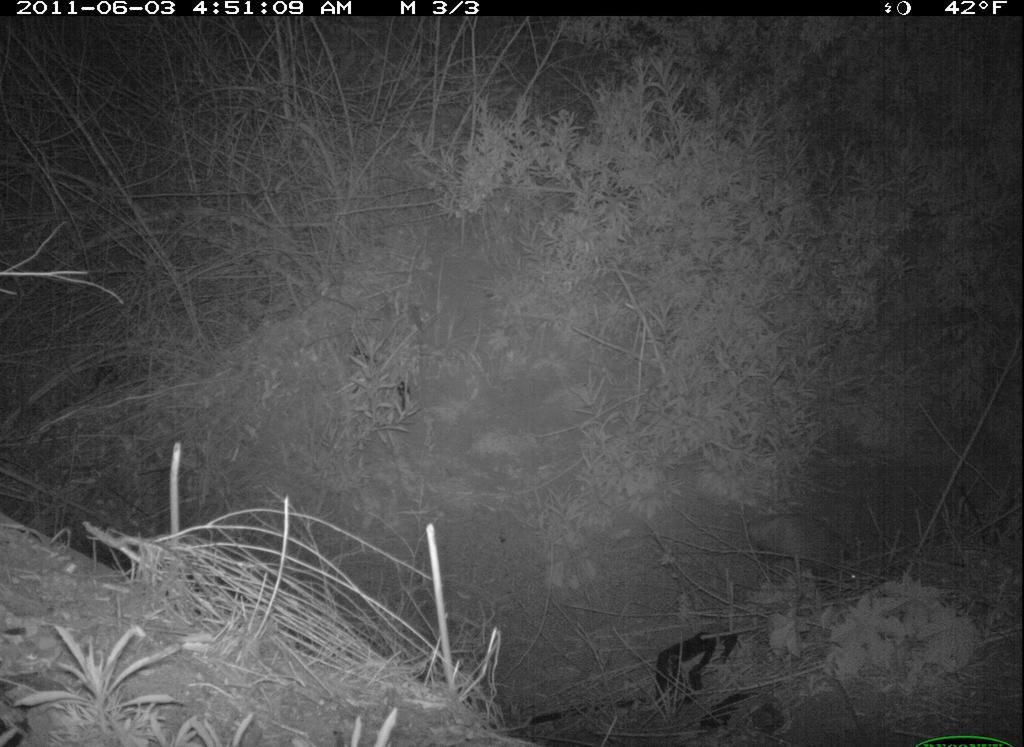opossum: (680, 488, 902, 594)
